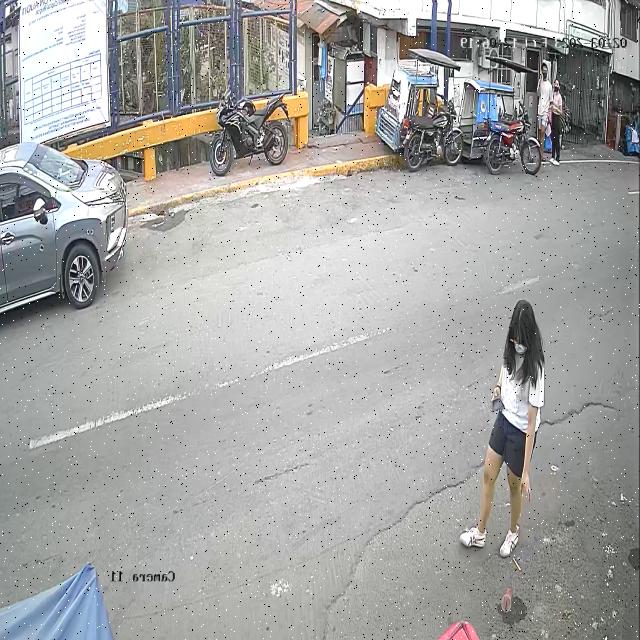human: (460, 299, 544, 613)
trash: (502, 579, 515, 616)
